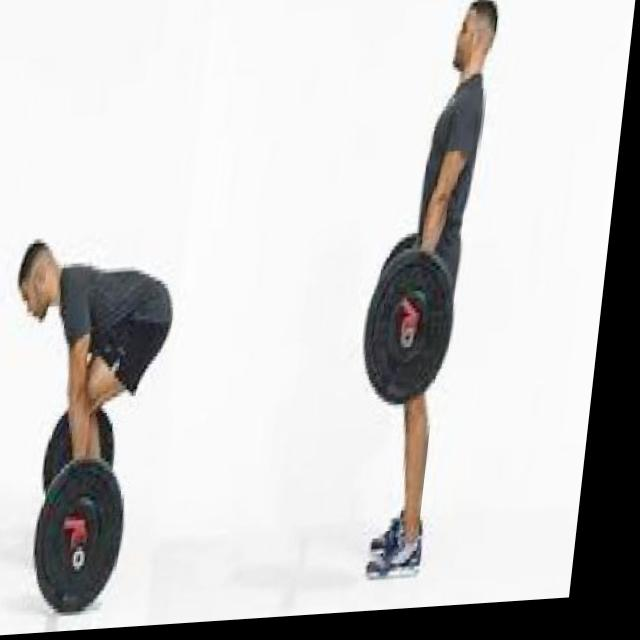barbell: (363, 247, 473, 416), (38, 455, 146, 625)
